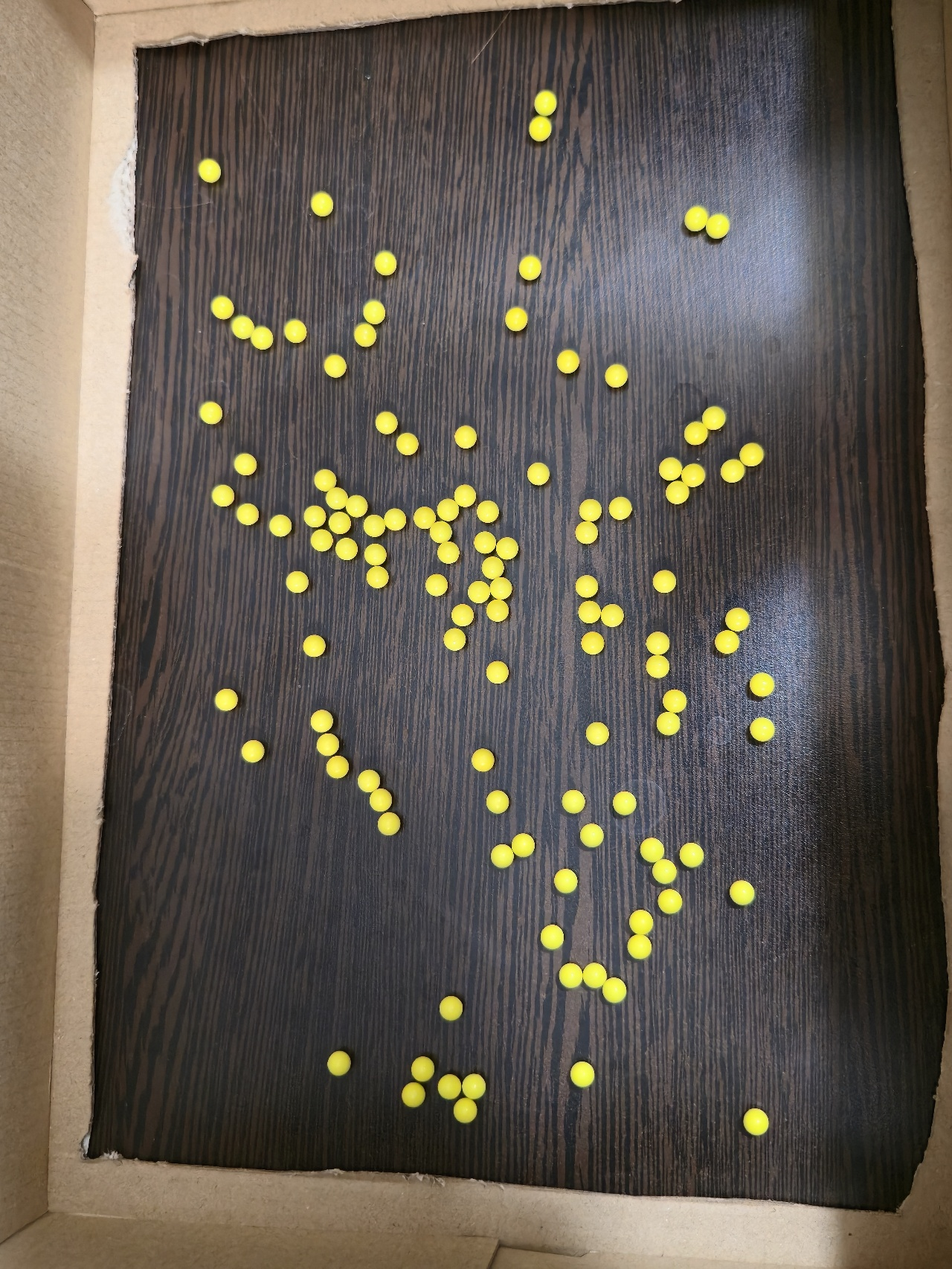yellow_bead: (690, 211, 704, 225), (635, 916, 648, 931), (750, 1115, 763, 1129), (588, 969, 601, 983), (711, 220, 724, 233), (634, 939, 646, 953), (468, 1080, 480, 1093), (576, 1068, 588, 1081), (608, 984, 620, 997), (565, 970, 577, 983), (658, 865, 671, 877), (757, 723, 769, 736), (687, 469, 700, 481), (237, 321, 250, 333), (736, 887, 748, 899), (686, 849, 698, 861), (646, 845, 658, 857), (756, 678, 768, 690), (690, 427, 702, 439), (255, 332, 267, 344), (745, 449, 758, 460), (204, 164, 215, 177), (317, 197, 327, 211), (460, 1105, 471, 1117), (444, 1081, 455, 1093), (417, 1064, 428, 1076), (333, 1058, 344, 1070), (446, 1003, 457, 1015), (547, 931, 558, 943), (664, 896, 676, 907), (586, 830, 598, 841), (619, 798, 631, 809), (663, 717, 674, 729), (669, 696, 681, 707), (732, 615, 744, 626), (727, 466, 739, 477), (708, 412, 720, 423), (611, 370, 622, 382), (289, 325, 300, 337), (216, 301, 227, 313), (369, 305, 379, 318), (408, 1090, 419, 1101), (560, 876, 571, 887), (497, 851, 508, 862), (518, 840, 529, 851), (492, 797, 503, 808), (568, 797, 579, 808), (722, 637, 733, 648), (495, 583, 506, 594), (615, 503, 626, 514), (332, 493, 343, 504), (672, 487, 683, 498), (606, 611, 618, 621), (330, 360, 340, 372), (360, 329, 370, 341), (525, 260, 535, 272), (380, 257, 390, 269), (653, 661, 663, 672), (652, 639, 663, 649), (436, 527, 446, 538), (582, 527, 592, 538), (419, 513, 430, 523), (585, 506, 596, 516), (533, 469, 544, 479), (666, 464, 676, 475), (205, 408, 216, 418), (376, 796, 386, 806), (592, 729, 602, 739), (317, 717, 327, 727), (221, 695, 231, 705), (492, 668, 502, 678), (588, 639, 598, 649), (450, 635, 460, 645), (582, 582, 592, 592), (660, 577, 670, 587), (488, 563, 498, 573), (370, 521, 380, 531), (483, 507, 493, 517), (443, 505, 453, 515), (351, 501, 361, 511), (217, 491, 227, 501), (461, 433, 471, 443), (493, 605, 502, 616), (474, 588, 485, 597), (444, 547, 453, 558), (275, 521, 286, 530), (239, 460, 250, 469), (541, 99, 550, 110), (384, 820, 394, 829), (477, 756, 487, 765), (323, 741, 333, 750), (309, 642, 319, 651), (457, 611, 467, 620), (585, 608, 595, 617), (431, 581, 441, 590), (292, 578, 302, 587), (373, 572, 382, 582), (370, 550, 380, 559), (341, 544, 350, 554), (502, 544, 512, 553), (480, 538, 490, 547), (335, 518, 344, 528), (389, 515, 399, 524), (309, 512, 319, 521), (320, 476, 329, 486), (402, 439, 411, 449), (382, 418, 391, 428), (364, 777, 373, 786), (332, 763, 341, 772), (317, 536, 326, 545), (242, 510, 251, 519), (460, 492, 469, 501), (563, 358, 572, 367), (248, 748, 257, 756), (512, 317, 520, 325), (535, 128, 539, 135)
